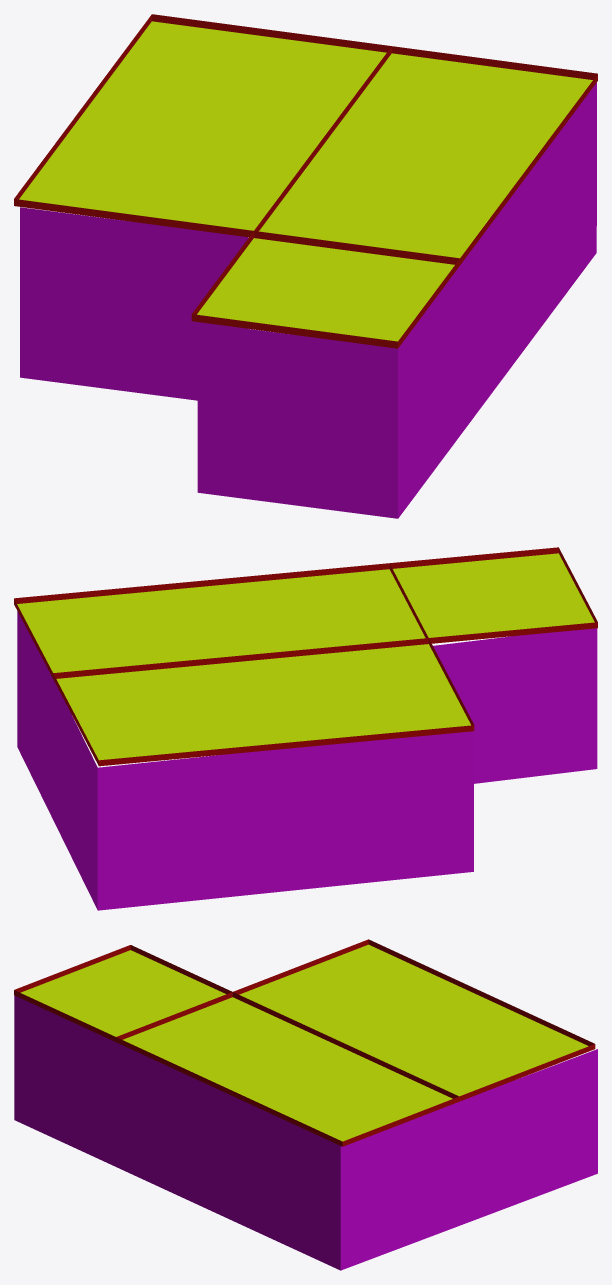
3 views of the same model, one above another, from view 1: azimuth 30°, elevation 25°; view 2: azimuth 150°, elevation 25°; view 3: azimuth 270°, elevation 25° (orthographic). The views are drawn at different scales.
Parts seen in each view (by area): view 1: sc_34; view 2: sc_34; view 3: sc_34.
Boxes of the visible parts, bbox=[...] form: sc_34: bbox=[14, 14, 597, 518]; sc_34: bbox=[14, 547, 597, 910]; sc_34: bbox=[14, 939, 597, 1270].
Bounding box in the file's own units: 28.88 × 8.65 × 35.24.
